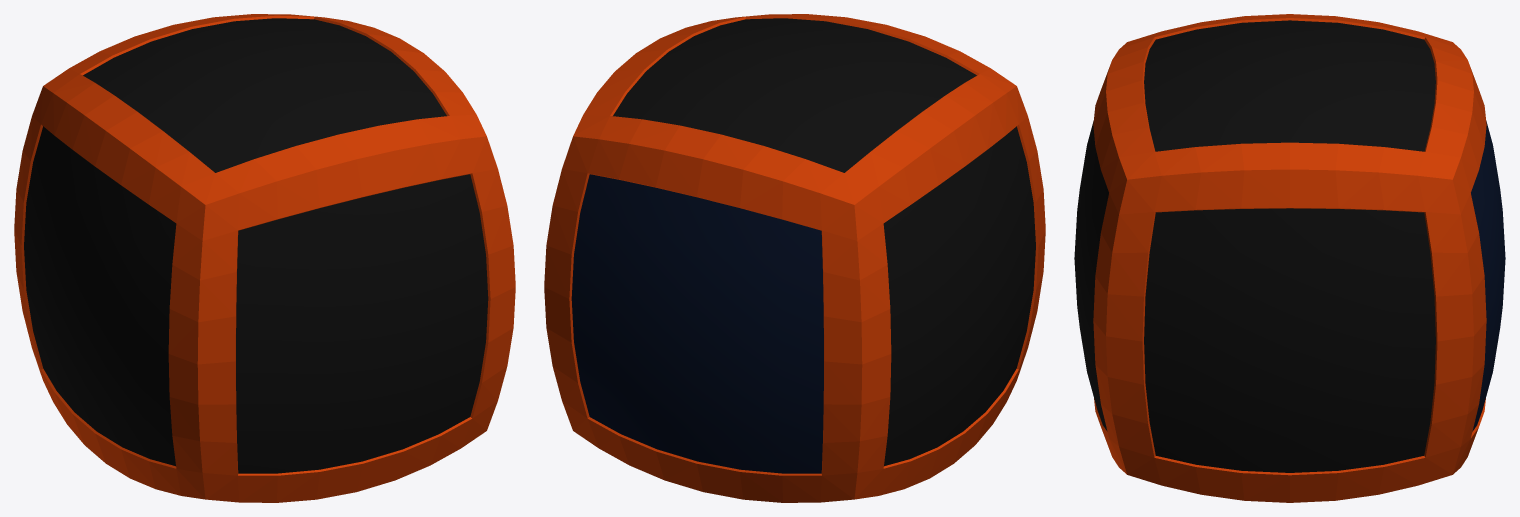
The model's file is standard.obj.
3 renders of one model, left to right at view 1: azimuth 30°, elevation 25°; view 2: azimuth 150°, elevation 25°; view 3: azimuth 270°, elevation 25°, orthographic.
Parts seen in each view (by area): view 1: Inner, Outter; view 2: Outter, Inner, Inner.001; view 3: Inner, Outter, Inner.001.
Part boxes in pixels (box(x1,y1,x2,y2)): Inner: box(24, 18, 488, 473); Outter: box(14, 14, 515, 502); Outter: box(544, 14, 1045, 502); Inner: box(613, 18, 1035, 466); Inner.001: box(571, 174, 823, 473); Inner: box(1074, 20, 1435, 472); Outter: box(1093, 14, 1486, 502); Inner.001: box(1471, 121, 1505, 431).
Size of the model in its own units: 3.05 by 3.05 by 3.05.
